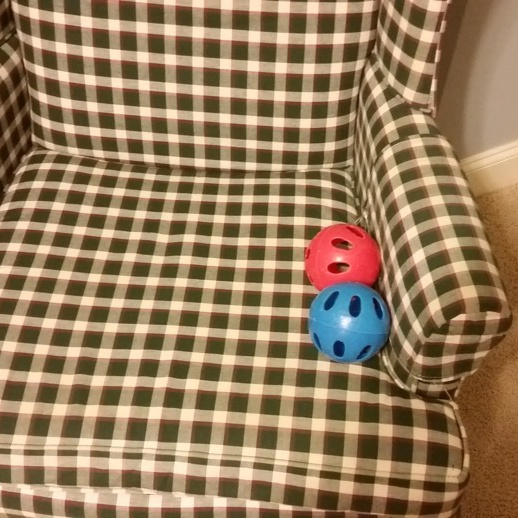blueball: (304, 276, 396, 366)
redball: (302, 220, 385, 291)
